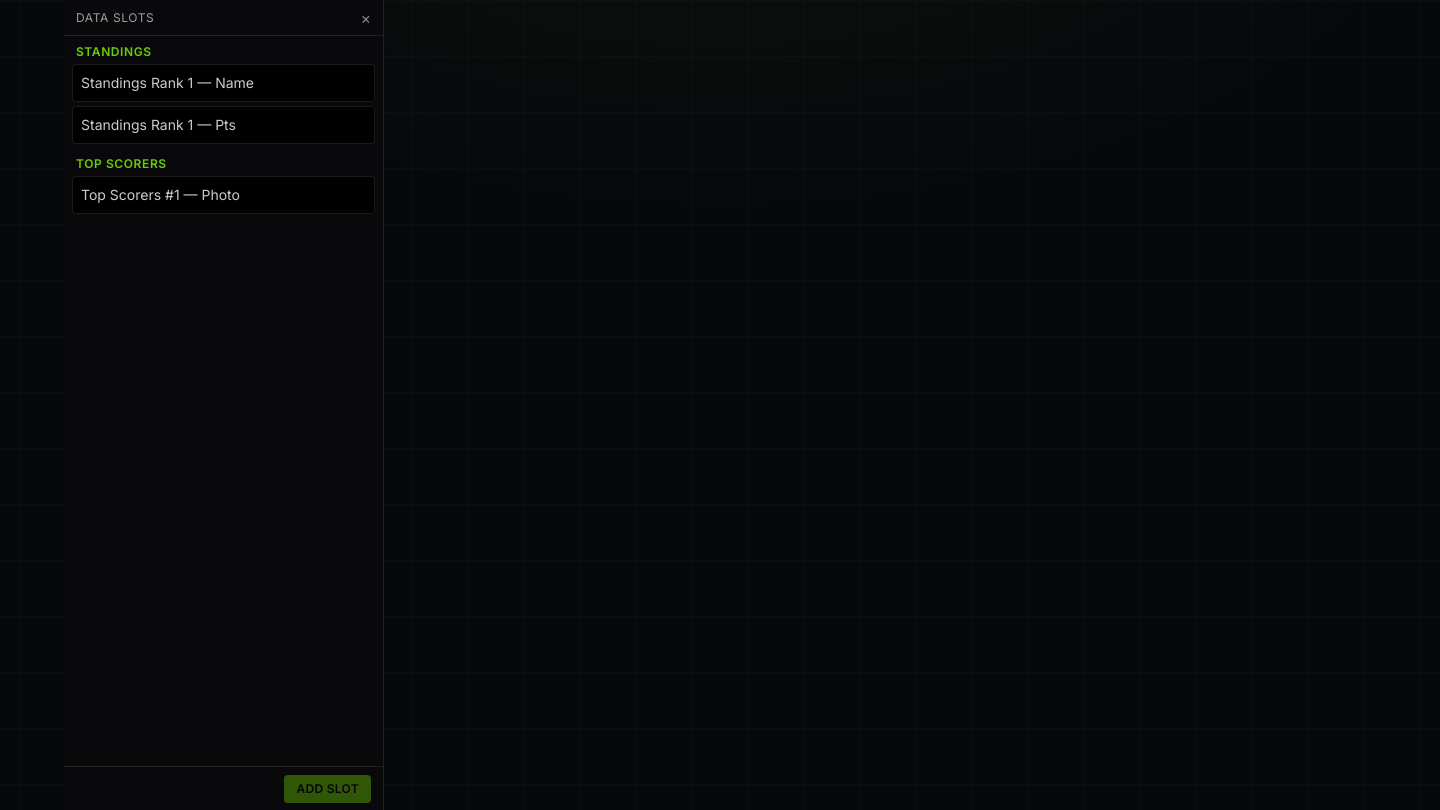
DataSlotsPanel › confirm button is disabled until a field is picked
Check: the button with test id "data-slot-picker-confirm" is disabled, box [284,774,371,802]
Click the button "Standings Rank 1 — Name" at {"x": 224, "y": 83}, box [72,64,375,102]
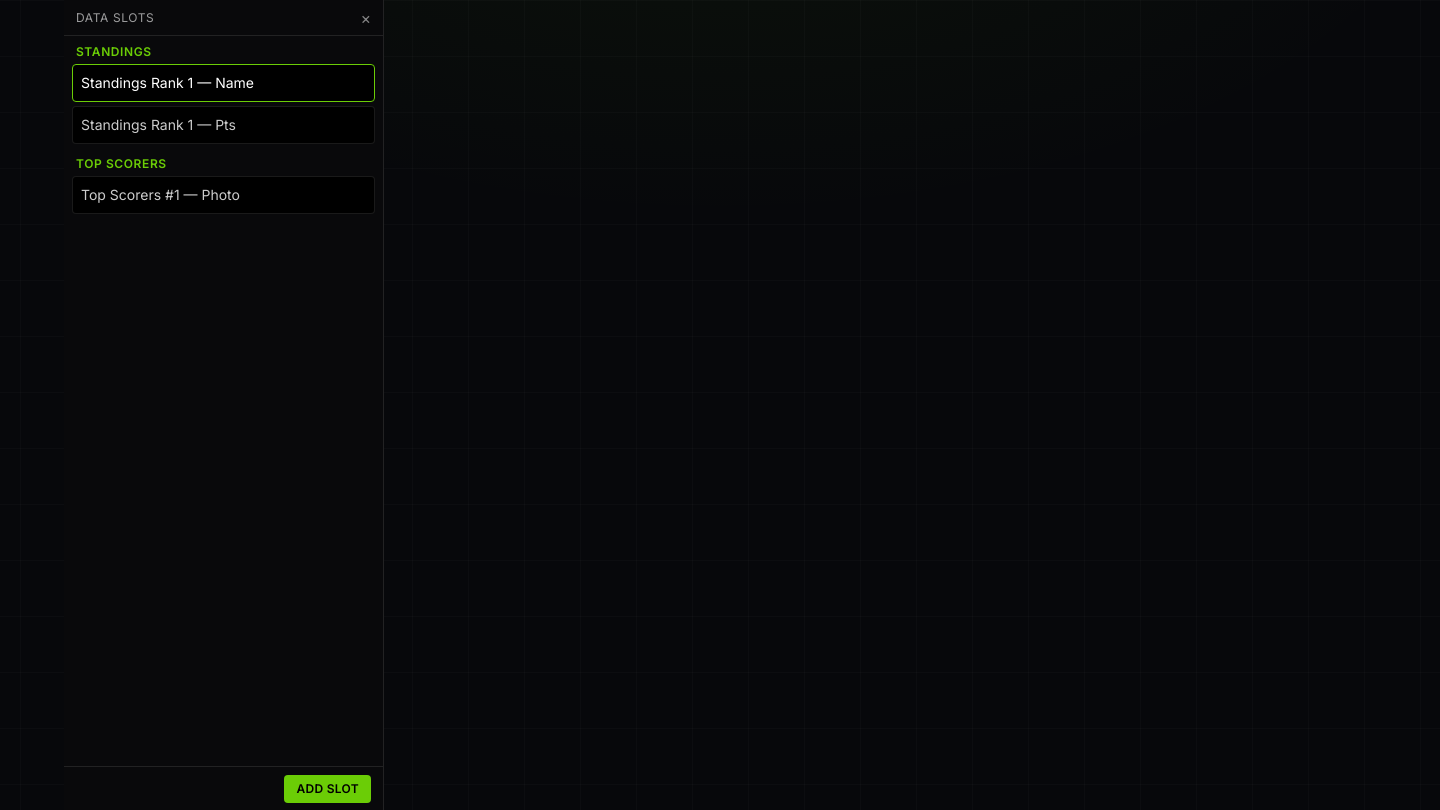
Check: the button with test id "data-slot-picker-confirm" is enabled, box [284,774,371,802]
